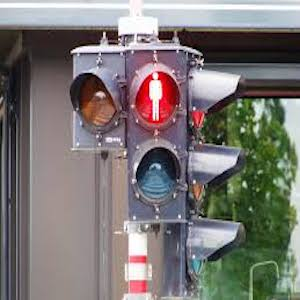red: (144, 73, 169, 124)
